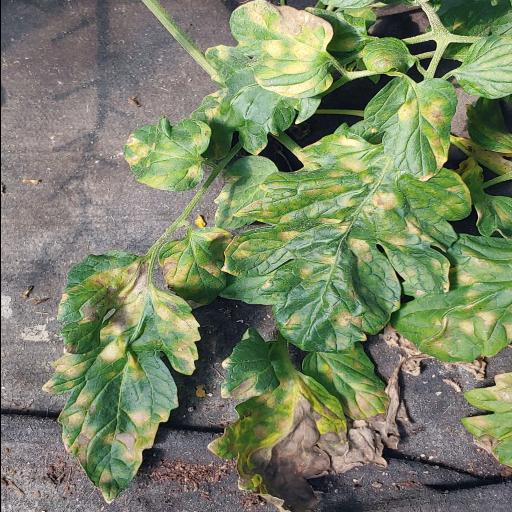Leaf Mold: (219, 132, 470, 356), (39, 252, 200, 504), (205, 325, 348, 512), (390, 234, 512, 364), (230, 2, 341, 100), (300, 340, 390, 422), (122, 119, 216, 192), (394, 77, 458, 181), (156, 227, 234, 310), (213, 155, 279, 231)
